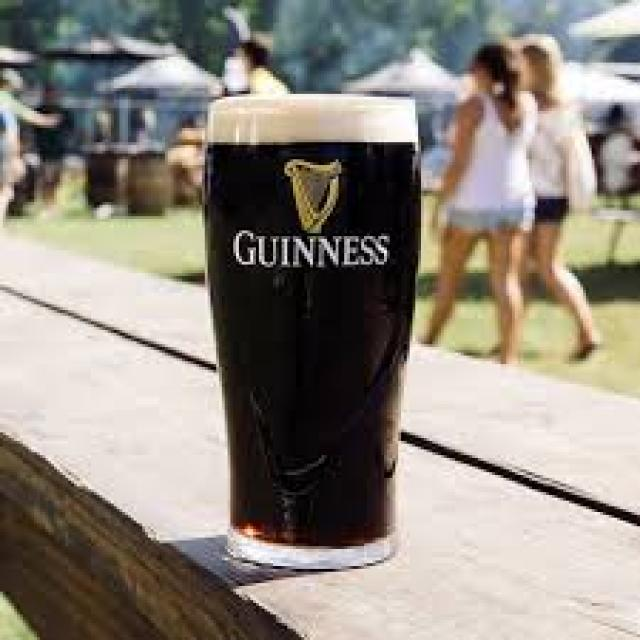guiness_full_glass: (204, 92, 422, 570)
